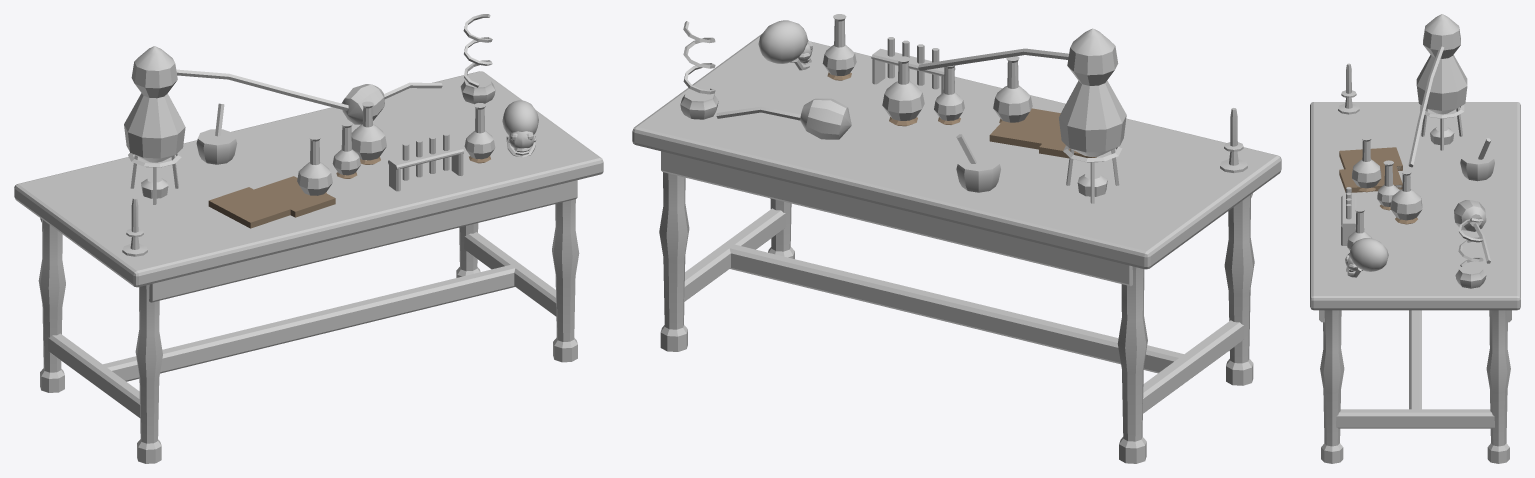
File: clutter_alchemy.glb
The picture shows the model from 3 angles, left to right: view 1: azimuth 30°, elevation 25°; view 2: azimuth 150°, elevation 25°; view 3: azimuth 270°, elevation 25°; orthographic projection. The views are drawn at different scales.
Visible parts, largest first — view 1: clutter_alchemy; view 2: clutter_alchemy; view 3: clutter_alchemy.
Boxes of the visible parts, bbox=[...] form: clutter_alchemy: bbox=[14, 14, 603, 463]; clutter_alchemy: bbox=[632, 14, 1281, 463]; clutter_alchemy: bbox=[1310, 14, 1520, 463].
Size of the model in its own units: 2.1 by 1.49 by 0.95.
